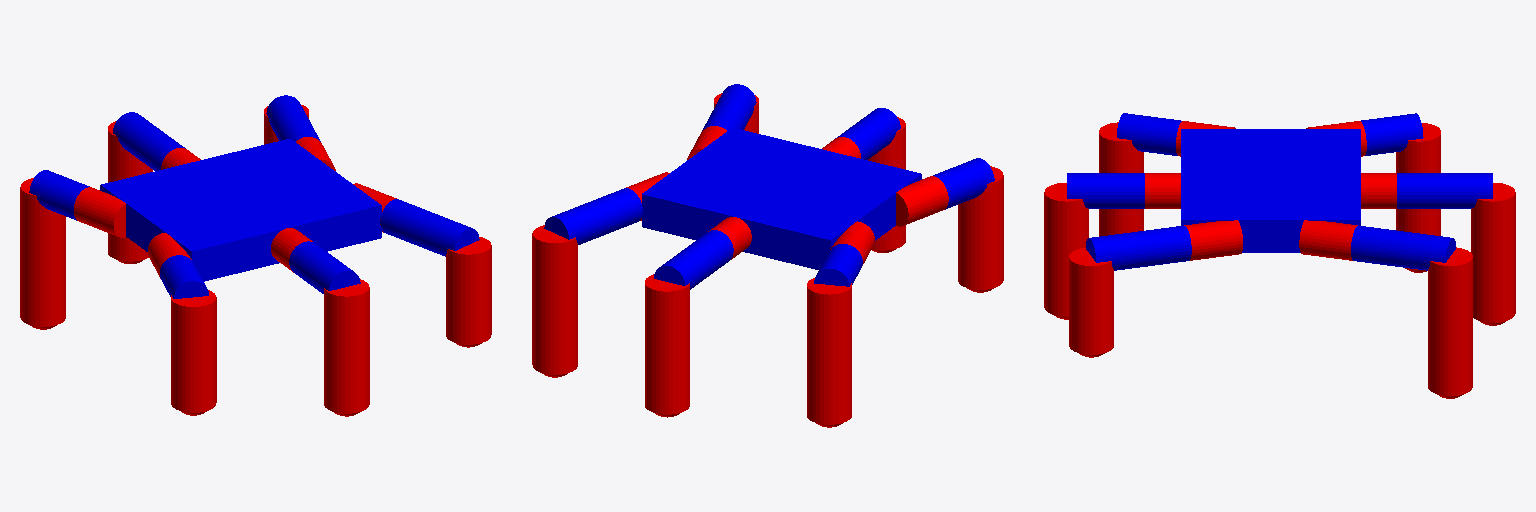
--- Render facts (derived) ---
The picture shows the robot from 3 angles, left to right: view 1: azimuth 30°, elevation 25°; view 2: azimuth 150°, elevation 25°; view 3: azimuth 270°, elevation 25°; orthographic projection.
Robot: pexod — 19 links, 18 joints (18 revolute); root link base_link; default pose: every joint at zero.
Links seen in each view (by area): view 1: base_link, leg_4_3, leg_0_3, leg_5_3, leg_3_3, leg_3_2, leg_4_2, leg_1_2, leg_1_3, leg_0_1, leg_0_2, leg_2_2 (+3 smaller); view 2: base_link, leg_2_3, leg_0_3, leg_1_3, leg_5_3, leg_2_2, leg_1_2, leg_5_1, leg_4_2, leg_5_2, leg_3_2, leg_4_3 (+3 smaller); view 3: base_link, leg_2_3, leg_1_3, leg_3_3, leg_4_3, leg_3_2, leg_2_2, leg_1_2, leg_0_3, leg_5_3, leg_4_2, leg_5_2 (+5 smaller).
Link boxes in pixels (bbox=[...]): base_link: bbox=[100, 139, 381, 281]; leg_4_3: bbox=[324, 279, 369, 416]; leg_0_3: bbox=[20, 178, 65, 329]; leg_5_3: bbox=[171, 290, 216, 415]; leg_3_3: bbox=[446, 237, 491, 347]; leg_3_2: bbox=[380, 199, 479, 256]; leg_4_2: bbox=[289, 241, 360, 293]; leg_1_2: bbox=[113, 112, 185, 170]; leg_1_3: bbox=[108, 121, 152, 263]; leg_0_1: bbox=[74, 187, 125, 237]; leg_0_2: bbox=[29, 170, 89, 220]; leg_2_2: bbox=[266, 95, 320, 141]; base_link: bbox=[642, 128, 921, 269]; leg_2_3: bbox=[532, 225, 577, 377]; leg_0_3: bbox=[807, 278, 851, 427]; leg_1_3: bbox=[645, 274, 689, 417]; leg_5_3: bbox=[958, 166, 1003, 292]; leg_2_2: bbox=[544, 188, 642, 244]; leg_1_2: bbox=[654, 230, 733, 289]; leg_5_1: bbox=[896, 176, 948, 226]; leg_4_2: bbox=[835, 108, 900, 159]; leg_5_2: bbox=[933, 158, 994, 209]; leg_3_2: bbox=[702, 84, 756, 130]; leg_4_3: bbox=[868, 117, 905, 252]; base_link: bbox=[1181, 129, 1360, 252]; leg_2_3: bbox=[1428, 247, 1472, 398]; leg_1_3: bbox=[1471, 183, 1515, 325]; leg_3_3: bbox=[1069, 248, 1113, 357]; leg_4_3: bbox=[1044, 183, 1088, 319]; leg_3_2: bbox=[1086, 226, 1191, 270]; leg_2_2: bbox=[1351, 226, 1455, 270]; leg_1_2: bbox=[1397, 173, 1492, 208]; leg_0_3: bbox=[1396, 123, 1440, 272]; leg_5_3: bbox=[1099, 122, 1143, 236]; leg_4_2: bbox=[1067, 173, 1144, 208]; leg_5_2: bbox=[1117, 113, 1181, 155].
Bounding box of the posed robot: 0.3784 × 0.5237 × 0.1921 m (x, y, z).
Geometry: primitives only (box / cylinder / sphere), no mesh files.

robot.urdf — pexod:
<?xml version="1.0" ?>
<!-- =================================================================================== -->
<!-- |    This document was autogenerated by xacro from pexod.xacro                    | -->
<!-- |    EDITING THIS FILE BY HAND IS NOT RECOMMENDED                                 | -->
<!-- =================================================================================== -->
<robot name="pexod" xmlns:xacro="http://www.ros.org/wiki/xacro">
  <!-- <xacro:include filename="$(find pexod_description)/urdf/pexod_control.xacro" /> -->
  <!-- MATERIALS -->
  <material name="Blue">
    <color rgba="0 0 1 1"/>
  </material>
  <material name="Red">
    <color rgba="1 0 0 1"/>
  </material>
  <material name="Green">
    <color rgba="0 1 0 1"/>
  </material>
  <material name="Yellow">
    <color rgba="1 1 0 1"/>
  </material>
  <material name="LightGrey">
    <color rgba="0.6 0.6 0.6 1.0"/>
  </material>
  <!-- END OF MATERIALS -->
  <!-- XACRO MACROS FOR VISUALS AND COLLISIONS -->
  <!-- END OF XACRO MACROS -->
  <!-- TORSO -->
  <link name="base_link">
    <visual>
      <origin rpy="0 0 0" xyz="0 0 0"/>
      <geometry>
        <box size="0.24 0.2 0.04"/>
      </geometry>
      <material name="Blue"/>
    </visual>
    <collision>
      <origin rpy="0 0 0" xyz="0 0 0"/>
      <geometry>
        <box size="0.24 0.2 0.04"/>
      </geometry>
    </collision>
    <inertial>
      <!-- CENTER OF MASS -->
      <origin rpy="0 0 0" xyz="0 0 0"/>
      <mass value="1.031"/>
      <!-- box inertia: 1/12*m(y^2+z^2), ... -->
      <inertia ixx="0.00357413333333" ixy="0" ixz="0" iyy="0.00508626666667" iyz="0" izz="0.00838546666667"/>
    </inertial>
  </link>
  <!-- XACRO MACRO FOR LEGS LINKS/JOINTS -->
  <!-- END OF LEG LINKS/JOINTS -->
  <joint name="body_leg_2" type="revolute">
    <parent link="base_link"/>
    <child link="leg_2_1"/>
    <limit effort="30.0" lower="-1.57079632679" upper="1.57079632679" velocity="7.0"/>
    <origin rpy="0 0 -0.3" xyz="0.11 0.04 0"/>
    <!-- <xacro:if value="${index == 5 or index == 4 or index == 3}">
                <axis xyz="0 0 1"/>
            </xacro:if>
            <xacro:if value="${index == 2 or index == 1 or index == 0}"> -->
    <axis xyz="0 0 1"/>
    <!-- </xacro:if> -->
    <dynamics damping="0.0"/>
  </joint>
  <link name="leg_2_1">
    <visual>
      <origin rpy="1.57079632679 0 0" xyz="0.01 0.03 0"/>
      <geometry>
        <cylinder length="0.06" radius="0.02"/>
      </geometry>
      <material name="Red"/>
    </visual>
    <collision>
      <origin rpy="1.57079632679 0 0" xyz="0.01 0.03 0"/>
      <geometry>
        <box size="0.02 0.02 0.06"/>
      </geometry>
    </collision>
    <inertial>
      <!-- CENTER OF MASS -->
      <origin rpy="1.57079632679 0 0" xyz="0.01 0.03 0"/>
      <mass value="0.02"/>
      <!-- box inertia: 1/12*m(y^2+z^2), ... -->
      <inertia ixx="6.66666666667e-06" ixy="0" ixz="0" iyy="6.66666666667e-06" iyz="0" izz="1.33333333333e-06"/>
    </inertial>
  </link>
  <joint name="leg_2_1_2" type="revolute">
    <parent link="leg_2_1"/>
    <child link="leg_2_2"/>
    <limit effort="30.0" lower="-0.78539816339" upper="0.78539816339" velocity="7.0"/>
    <origin rpy="0 0 0" xyz="0 0.06 0"/>
    <axis xyz="1 0 0"/>
    <dynamics damping="0.0"/>
  </joint>
  <link name="leg_2_2">
    <visual>
      <origin rpy="1.57079632679 0 0" xyz="0.01 0.055169609678 0"/>
      <geometry>
        <cylinder length="0.110339219356" radius="0.02"/>
      </geometry>
      <material name="Blue"/>
    </visual>
    <collision>
      <origin rpy="1.57079632679 0 0" xyz="0.01 0.055169609678 0"/>
      <geometry>
        <box size="0.02 0.02 0.110339219356"/>
      </geometry>
    </collision>
    <inertial>
      <!-- CENTER OF MASS -->
      <origin rpy="1.57079632679 0 0" xyz="0.01 0.055169609678 0"/>
      <mass value="0.184"/>
      <!-- box inertia: 1/12*m(y^2+z^2), ... -->
      <inertia ixx="0.000192812731031" ixy="0" ixz="0" iyy="0.000192812731031" iyz="0" izz="1.22666666667e-05"/>
    </inertial>
  </link>
  <joint name="leg_2_2_3" type="revolute">
    <parent link="leg_2_2"/>
    <child link="leg_2_3"/>
    <limit effort="30.0" lower="-0.78539816339" upper="0.78539816339" velocity="7.0"/>
    <origin rpy="-1.57079632679 0 0" xyz="0 0.110339219356 0"/>
    <axis xyz="-1 0 0"/>
    <dynamics damping="0.0"/>
  </joint>
  <link name="leg_2_3">
    <visual>
      <origin rpy="1.57079632679 0 0" xyz="0.0125 0.079806493705 0"/>
      <geometry>
        <cylinder length="0.15961298741" radius="0.025"/>
      </geometry>
      <material name="Red"/>
    </visual>
    <visual>
      <origin rpy="1.57079632679 0 0" xyz="0.0125 0.14711298741 0"/>
      <geometry>
        <sphere radius="0.025"/>
      </geometry>
      <material name="Red"/>
    </visual>
    <collision>
      <origin rpy="1.57079632679 0 0" xyz="0.0125 0.079806493705 0"/>
      <geometry>
        <box size="0.025 0.025 0.15961298741"/>
      </geometry>
    </collision>
    <collision>
      <origin rpy="1.57079632679 0 0" xyz="0.0125 0.14711298741 0"/>
      <geometry>
        <sphere radius="0.025"/>
      </geometry>
      <material name="Red"/>
    </collision>
    <inertial>
      <!-- CENTER OF MASS -->
      <origin rpy="1.57079632679 0 0" xyz="0.0125 0.079806493705 0"/>
      <mass value="0.04"/>
      <!-- box inertia: 1/12*m(y^2+z^2), ... -->
      <inertia ixx="8.70043524998e-05" ixy="0" ixz="0" iyy="8.70043524998e-05" iyz="0" izz="4.16666666667e-06"/>
    </inertial>
  </link>
  <joint name="body_leg_3" type="revolute">
    <parent link="base_link"/>
    <child link="leg_3_1"/>
    <limit effort="30.0" lower="-1.57079632679" upper="1.57079632679" velocity="7.0"/>
    <origin rpy="0 0 0.3" xyz="0.11 -0.04 0"/>
    <!-- <xacro:if value="${index == 5 or index == 4 or index == 3}">
                <axis xyz="0 0 1"/>
            </xacro:if>
            <xacro:if value="${index == 2 or index == 1 or index == 0}"> -->
    <axis xyz="0 0 1"/>
    <!-- </xacro:if> -->
    <dynamics damping="0.0"/>
  </joint>
  <link name="leg_3_1">
    <visual>
      <origin rpy="1.57079632679 0 0" xyz="0.01 -0.03 0"/>
      <geometry>
        <cylinder length="0.06" radius="0.02"/>
      </geometry>
      <material name="Red"/>
    </visual>
    <collision>
      <origin rpy="1.57079632679 0 0" xyz="0.01 -0.03 0"/>
      <geometry>
        <box size="0.02 0.02 0.06"/>
      </geometry>
    </collision>
    <inertial>
      <!-- CENTER OF MASS -->
      <origin rpy="1.57079632679 0 0" xyz="0.01 -0.03 0"/>
      <mass value="0.02"/>
      <!-- box inertia: 1/12*m(y^2+z^2), ... -->
      <inertia ixx="6.66666666667e-06" ixy="0" ixz="0" iyy="6.66666666667e-06" iyz="0" izz="1.33333333333e-06"/>
    </inertial>
  </link>
  <joint name="leg_3_1_2" type="revolute">
    <parent link="leg_3_1"/>
    <child link="leg_3_2"/>
    <limit effort="30.0" lower="-0.78539816339" upper="0.78539816339" velocity="7.0"/>
    <origin rpy="0 0 0" xyz="0 -0.06 0"/>
    <axis xyz="-1 0 0"/>
    <dynamics damping="0.0"/>
  </joint>
  <link name="leg_3_2">
    <visual>
      <origin rpy="1.57079632679 0 0" xyz="0.01 -0.055523271424 0"/>
      <geometry>
        <cylinder length="0.111046542848" radius="0.02"/>
      </geometry>
      <material name="Blue"/>
    </visual>
    <collision>
      <origin rpy="1.57079632679 0 0" xyz="0.01 -0.055523271424 0"/>
      <geometry>
        <box size="0.02 0.02 0.111046542848"/>
      </geometry>
    </collision>
    <inertial>
      <!-- CENTER OF MASS -->
      <origin rpy="1.57079632679 0 0" xyz="0.01 -0.055523271424 0"/>
      <mass value="0.184"/>
      <!-- box inertia: 1/12*m(y^2+z^2), ... -->
      <inertia ixx="0.000195213798404" ixy="0" ixz="0" iyy="0.000195213798404" iyz="0" izz="1.22666666667e-05"/>
    </inertial>
  </link>
  <joint name="leg_3_2_3" type="revolute">
    <parent link="leg_3_2"/>
    <child link="leg_3_3"/>
    <limit effort="30.0" lower="-0.78539816339" upper="0.78539816339" velocity="7.0"/>
    <origin rpy="1.57079632679 0 0" xyz="0 -0.111046542848 0"/>
    <axis xyz="1 0 0"/>
    <dynamics damping="0.0"/>
  </joint>
  <link name="leg_3_3">
    <visual>
      <origin rpy="1.57079632679 0 0" xyz="0.0125 -0.0544298456265 0"/>
      <geometry>
        <cylinder length="0.108859691253" radius="0.025"/>
      </geometry>
      <material name="Red"/>
    </visual>
    <visual>
      <origin rpy="1.57079632679 0 0" xyz="0.0125 -0.096359691253 0"/>
      <geometry>
        <sphere radius="0.025"/>
      </geometry>
      <material name="Red"/>
    </visual>
    <collision>
      <origin rpy="1.57079632679 0 0" xyz="0.0125 -0.0544298456265 0"/>
      <geometry>
        <box size="0.025 0.025 0.108859691253"/>
      </geometry>
    </collision>
    <collision>
      <origin rpy="1.57079632679 0 0" xyz="0.0125 -0.096359691253 0"/>
      <geometry>
        <sphere radius="0.025"/>
      </geometry>
      <material name="Red"/>
    </collision>
    <inertial>
      <!-- CENTER OF MASS -->
      <origin rpy="1.57079632679 0 0" xyz="0.0125 -0.0544298456265 0"/>
      <mass value="0.04"/>
      <!-- box inertia: 1/12*m(y^2+z^2), ... -->
      <inertia ixx="4.1584774599e-05" ixy="0" ixz="0" iyy="4.1584774599e-05" iyz="0" izz="4.16666666667e-06"/>
    </inertial>
  </link>
  <joint name="body_leg_0" type="revolute">
    <parent link="base_link"/>
    <child link="leg_0_1"/>
    <limit effort="30.0" lower="-1.57079632679" upper="1.57079632679" velocity="7.0"/>
    <origin rpy="0 0 0.3" xyz="-0.13 0.04 0"/>
    <!-- <xacro:if value="${index == 5 or index == 4 or index == 3}">
                <axis xyz="0 0 1"/>
            </xacro:if>
            <xacro:if value="${index == 2 or index == 1 or index == 0}"> -->
    <axis xyz="0 0 1"/>
    <!-- </xacro:if> -->
    <dynamics damping="0.0"/>
  </joint>
  <link name="leg_0_1">
    <visual>
      <origin rpy="1.57079632679 0 0" xyz="0.01 0.03 0"/>
      <geometry>
        <cylinder length="0.06" radius="0.02"/>
      </geometry>
      <material name="Red"/>
    </visual>
    <collision>
      <origin rpy="1.57079632679 0 0" xyz="0.01 0.03 0"/>
      <geometry>
        <box size="0.02 0.02 0.06"/>
      </geometry>
    </collision>
    <inertial>
      <!-- CENTER OF MASS -->
      <origin rpy="1.57079632679 0 0" xyz="0.01 0.03 0"/>
      <mass value="0.02"/>
      <!-- box inertia: 1/12*m(y^2+z^2), ... -->
      <inertia ixx="6.66666666667e-06" ixy="0" ixz="0" iyy="6.66666666667e-06" iyz="0" izz="1.33333333333e-06"/>
    </inertial>
  </link>
  <joint name="leg_0_1_2" type="revolute">
    <parent link="leg_0_1"/>
    <child link="leg_0_2"/>
    <limit effort="30.0" lower="-0.78539816339" upper="0.78539816339" velocity="7.0"/>
    <origin rpy="0 0 0" xyz="0 0.06 0"/>
    <axis xyz="1 0 0"/>
    <dynamics damping="0.0"/>
  </joint>
  <link name="leg_0_2">
    <visual>
      <origin rpy="1.57079632679 0 0" xyz="0.01 0.0329997539777 0"/>
      <geometry>
        <cylinder length="0.0659995079554" radius="0.02"/>
      </geometry>
      <material name="Blue"/>
    </visual>
    <collision>
      <origin rpy="1.57079632679 0 0" xyz="0.01 0.0329997539777 0"/>
      <geometry>
        <box size="0.02 0.02 0.0659995079554"/>
      </geometry>
    </collision>
    <inertial>
      <!-- CENTER OF MASS -->
      <origin rpy="1.57079632679 0 0" xyz="0.01 0.0329997539777 0"/>
      <mass value="0.184"/>
      <!-- box inertia: 1/12*m(y^2+z^2), ... -->
      <inertia ixx="7.29243374388e-05" ixy="0" ixz="0" iyy="7.29243374388e-05" iyz="0" izz="1.22666666667e-05"/>
    </inertial>
  </link>
  <joint name="leg_0_2_3" type="revolute">
    <parent link="leg_0_2"/>
    <child link="leg_0_3"/>
    <limit effort="30.0" lower="-0.78539816339" upper="0.78539816339" velocity="7.0"/>
    <origin rpy="-1.57079632679 0 0" xyz="0 0.0659995079554 0"/>
    <axis xyz="-1 0 0"/>
    <dynamics damping="0.0"/>
  </joint>
  <link name="leg_0_3">
    <visual>
      <origin rpy="1.57079632679 0 0" xyz="0.0125 0.0789329539165 0"/>
      <geometry>
        <cylinder length="0.157865907833" radius="0.025"/>
      </geometry>
      <material name="Red"/>
    </visual>
    <visual>
      <origin rpy="1.57079632679 0 0" xyz="0.0125 0.145365907833 0"/>
      <geometry>
        <sphere radius="0.025"/>
      </geometry>
      <material name="Red"/>
    </visual>
    <collision>
      <origin rpy="1.57079632679 0 0" xyz="0.0125 0.0789329539165 0"/>
      <geometry>
        <box size="0.025 0.025 0.157865907833"/>
      </geometry>
    </collision>
    <collision>
      <origin rpy="1.57079632679 0 0" xyz="0.0125 0.145365907833 0"/>
      <geometry>
        <sphere radius="0.025"/>
      </geometry>
      <material name="Red"/>
    </collision>
    <inertial>
      <!-- CENTER OF MASS -->
      <origin rpy="1.57079632679 0 0" xyz="0.0125 0.0789329539165 0"/>
      <mass value="0.04"/>
      <!-- box inertia: 1/12*m(y^2+z^2), ... -->
      <inertia ixx="8.51554828531e-05" ixy="0" ixz="0" iyy="8.51554828531e-05" iyz="0" izz="4.16666666667e-06"/>
    </inertial>
  </link>
  <joint name="body_leg_5" type="revolute">
    <parent link="base_link"/>
    <child link="leg_5_1"/>
    <limit effort="30.0" lower="-1.57079632679" upper="1.57079632679" velocity="7.0"/>
    <origin rpy="0 0 -0.3" xyz="-0.13 -0.04 0"/>
    <!-- <xacro:if value="${index == 5 or index == 4 or index == 3}">
                <axis xyz="0 0 1"/>
            </xacro:if>
            <xacro:if value="${index == 2 or index == 1 or index == 0}"> -->
    <axis xyz="0 0 1"/>
    <!-- </xacro:if> -->
    <dynamics damping="0.0"/>
  </joint>
  <link name="leg_5_1">
    <visual>
      <origin rpy="1.57079632679 0 0" xyz="0.01 -0.03 0"/>
      <geometry>
        <cylinder length="0.06" radius="0.02"/>
      </geometry>
      <material name="Red"/>
    </visual>
    <collision>
      <origin rpy="1.57079632679 0 0" xyz="0.01 -0.03 0"/>
      <geometry>
        <box size="0.02 0.02 0.06"/>
      </geometry>
    </collision>
    <inertial>
      <!-- CENTER OF MASS -->
      <origin rpy="1.57079632679 0 0" xyz="0.01 -0.03 0"/>
      <mass value="0.02"/>
      <!-- box inertia: 1/12*m(y^2+z^2), ... -->
      <inertia ixx="6.66666666667e-06" ixy="0" ixz="0" iyy="6.66666666667e-06" iyz="0" izz="1.33333333333e-06"/>
    </inertial>
  </link>
  <joint name="leg_5_1_2" type="revolute">
    <parent link="leg_5_1"/>
    <child link="leg_5_2"/>
    <limit effort="30.0" lower="-0.78539816339" upper="0.78539816339" velocity="7.0"/>
    <origin rpy="0 0 0" xyz="0 -0.06 0"/>
    <axis xyz="-1 0 0"/>
    <dynamics damping="0.0"/>
  </joint>
  <link name="leg_5_2">
    <visual>
      <origin rpy="1.57079632679 0 0" xyz="0.01 -0.0344225525335 0"/>
      <geometry>
        <cylinder length="0.068845105067" radius="0.02"/>
      </geometry>
      <material name="Blue"/>
    </visual>
    <collision>
      <origin rpy="1.57079632679 0 0" xyz="0.01 -0.0344225525335 0"/>
      <geometry>
        <box size="0.02 0.02 0.068845105067"/>
      </geometry>
    </collision>
    <inertial>
      <!-- CENTER OF MASS -->
      <origin rpy="1.57079632679 0 0" xyz="0.01 -0.0344225525335 0"/>
      <mass value="0.184"/>
      <!-- box inertia: 1/12*m(y^2+z^2), ... -->
      <inertia ixx="7.88079435392e-05" ixy="0" ixz="0" iyy="7.88079435392e-05" iyz="0" izz="1.22666666667e-05"/>
    </inertial>
  </link>
  <joint name="leg_5_2_3" type="revolute">
    <parent link="leg_5_2"/>
    <child link="leg_5_3"/>
    <limit effort="30.0" lower="-0.78539816339" upper="0.78539816339" velocity="7.0"/>
    <origin rpy="1.57079632679 0 0" xyz="0 -0.068845105067 0"/>
    <axis xyz="1 0 0"/>
    <dynamics damping="0.0"/>
  </joint>
  <link name="leg_5_3">
    <visual>
      <origin rpy="1.57079632679 0 0" xyz="0.0125 -0.0639595102265 0"/>
      <geometry>
        <cylinder length="0.127919020453" radius="0.025"/>
      </geometry>
      <material name="Red"/>
    </visual>
    <visual>
      <origin rpy="1.57079632679 0 0" xyz="0.0125 -0.115419020453 0"/>
      <geometry>
        <sphere radius="0.025"/>
      </geometry>
      <material name="Red"/>
    </visual>
    <collision>
      <origin rpy="1.57079632679 0 0" xyz="0.0125 -0.0639595102265 0"/>
      <geometry>
        <box size="0.025 0.025 0.127919020453"/>
      </geometry>
    </collision>
    <collision>
      <origin rpy="1.57079632679 0 0" xyz="0.0125 -0.115419020453 0"/>
      <geometry>
        <sphere radius="0.025"/>
      </geometry>
      <material name="Red"/>
    </collision>
    <inertial>
      <!-- CENTER OF MASS -->
      <origin rpy="1.57079632679 0 0" xyz="0.0125 -0.0639595102265 0"/>
      <mass value="0.04"/>
      <!-- box inertia: 1/12*m(y^2+z^2), ... -->
      <inertia ixx="5.66275859789e-05" ixy="0" ixz="0" iyy="5.66275859789e-05" iyz="0" izz="4.16666666667e-06"/>
    </inertial>
  </link>
  <joint name="body_leg_1" type="revolute">
    <parent link="base_link"/>
    <child link="leg_1_1"/>
    <limit effort="30.0" lower="-1.57079632679" upper="1.57079632679" velocity="7.0"/>
    <origin rpy="0 0 0" xyz="-0.01 0.08 0"/>
    <!-- <xacro:if value="${index == 5 or index == 4 or index == 3}">
                <axis xyz="0 0 1"/>
            </xacro:if>
            <xacro:if value="${index == 2 or index == 1 or index == 0}"> -->
    <axis xyz="0 0 1"/>
    <!-- </xacro:if> -->
    <dynamics damping="0.0"/>
  </joint>
  <link name="leg_1_1">
    <visual>
      <origin rpy="1.57079632679 0 0" xyz="0.01 0.03 0"/>
      <geometry>
        <cylinder length="0.06" radius="0.02"/>
      </geometry>
      <material name="Red"/>
    </visual>
    <collision>
      <origin rpy="1.57079632679 0 0" xyz="0.01 0.03 0"/>
      <geometry>
        <box size="0.02 0.02 0.06"/>
      </geometry>
    </collision>
    <inertial>
      <!-- CENTER OF MASS -->
      <origin rpy="1.57079632679 0 0" xyz="0.01 0.03 0"/>
      <mass value="0.02"/>
      <!-- box inertia: 1/12*m(y^2+z^2), ... -->
      <inertia ixx="6.66666666667e-06" ixy="0" ixz="0" iyy="6.66666666667e-06" iyz="0" izz="1.33333333333e-06"/>
    </inertial>
  </link>
  <joint name="leg_1_1_2" type="revolute">
    <parent link="leg_1_1"/>
    <child link="leg_1_2"/>
    <limit effort="30.0" lower="-0.78539816339" upper="0.78539816339" velocity="7.0"/>
    <origin rpy="0 0 0" xyz="0 0.06 0"/>
    <axis xyz="1 0 0"/>
    <dynamics damping="0.0"/>
  </joint>
  <link name="leg_1_2">
    <visual>
      <origin rpy="1.57079632679 0 0" xyz="0.01 0.0532567980695 0"/>
      <geometry>
        <cylinder length="0.106513596139" radius="0.02"/>
      </geometry>
      <material name="Blue"/>
    </visual>
    <collision>
      <origin rpy="1.57079632679 0 0" xyz="0.01 0.0532567980695 0"/>
      <geometry>
        <box size="0.02 0.02 0.106513596139"/>
      </geometry>
    </collision>
    <inertial>
      <!-- CENTER OF MASS -->
      <origin rpy="1.57079632679 0 0" xyz="0.01 0.0532567980695 0"/>
      <mass value="0.184"/>
      <!-- box inertia: 1/12*m(y^2+z^2), ... -->
      <inertia ixx="0.000180092241158" ixy="0" ixz="0" iyy="0.000180092241158" iyz="0" izz="1.22666666667e-05"/>
    </inertial>
  </link>
  <joint name="leg_1_2_3" type="revolute">
    <parent link="leg_1_2"/>
    <child link="leg_1_3"/>
    <limit effort="30.0" lower="-0.78539816339" upper="0.78539816339" velocity="7.0"/>
    <origin rpy="-1.57079632679 0 0" xyz="0 0.106513596139 0"/>
    <axis xyz="-1 0 0"/>
    <dynamics damping="0.0"/>
  </joint>
  <link name="leg_1_3">
    <visual>
      <origin rpy="1.57079632679 0 0" xyz="0.0125 0.0745333361395 0"/>
      <geometry>
        <cylinder length="0.149066672279" radius="0.025"/>
      </geometry>
      <material name="Red"/>
    </visual>
    <visual>
      <origin rpy="1.57079632679 0 0" xyz="0.0125 0.136566672279 0"/>
      <geometry>
        <sphere radius="0.025"/>
      </geometry>
      <material name="Red"/>
    </visual>
    <collision>
      <origin rpy="1.57079632679 0 0" xyz="0.0125 0.0745333361395 0"/>
      <geometry>
        <box size="0.025 0.025 0.149066672279"/>
      </geometry>
    </collision>
    <collision>
      <origin rpy="1.57079632679 0 0" xyz="0.0125 0.136566672279 0"/>
      <geometry>
        <sphere radius="0.025"/>
      </geometry>
      <material name="Red"/>
    </collision>
    <inertial>
      <!-- CENTER OF MASS -->
      <origin rpy="1.57079632679 0 0" xyz="0.0125 0.0745333361395 0"/>
      <mass value="0.04"/>
      <!-- box inertia: 1/12*m(y^2+z^2), ... -->
      <inertia ixx="7.61529092811e-05" ixy="0" ixz="0" iyy="7.61529092811e-05" iyz="0" izz="4.16666666667e-06"/>
    </inertial>
  </link>
  <joint name="body_leg_4" type="revolute">
    <parent link="base_link"/>
    <child link="leg_4_1"/>
    <limit effort="30.0" lower="-1.57079632679" upper="1.57079632679" velocity="7.0"/>
    <origin rpy="0 0 0" xyz="-0.01 -0.08 0"/>
    <!-- <xacro:if value="${index == 5 or index == 4 or index == 3}">
                <axis xyz="0 0 1"/>
            </xacro:if>
            <xacro:if value="${index == 2 or index == 1 or index == 0}"> -->
    <axis xyz="0 0 1"/>
    <!-- </xacro:if> -->
    <dynamics damping="0.0"/>
  </joint>
  <link name="leg_4_1">
    <visual>
      <origin rpy="1.57079632679 0 0" xyz="0.01 -0.03 0"/>
      <geometry>
        <cylinder length="0.06" radius="0.02"/>
      </geometry>
      <material name="Red"/>
    </visual>
    <collision>
      <origin rpy="1.57079632679 0 0" xyz="0.01 -0.03 0"/>
      <geometry>
        <box size="0.02 0.02 0.06"/>
      </geometry>
    </collision>
    <inertial>
      <!-- CENTER OF MASS -->
      <origin rpy="1.57079632679 0 0" xyz="0.01 -0.03 0"/>
      <mass value="0.02"/>
      <!-- box inertia: 1/12*m(y^2+z^2), ... -->
      <inertia ixx="6.66666666667e-06" ixy="0" ixz="0" iyy="6.66666666667e-06" iyz="0" izz="1.33333333333e-06"/>
    </inertial>
  </link>
  <joint name="leg_4_1_2" type="revolute">
    <parent link="leg_4_1"/>
    <child link="leg_4_2"/>
    <limit effort="30.0" lower="-0.78539816339" upper="0.78539816339" velocity="7.0"/>
    <origin rpy="0 0 0" xyz="0 -0.06 0"/>
    <axis xyz="-1 0 0"/>
    <dynamics damping="0.0"/>
  </joint>
  <link name="leg_4_2">
    <visual>
      <origin rpy="1.57079632679 0 0" xyz="0.01 -0.0436080308983 0"/>
      <geometry>
        <cylinder length="0.0872160617965" radius="0.02"/>
      </geometry>
      <material name="Blue"/>
    </visual>
    <collision>
      <origin rpy="1.57079632679 0 0" xyz="0.01 -0.0436080308983 0"/>
      <geometry>
        <box size="0.02 0.02 0.0872160617965"/>
      </geometry>
    </collision>
    <inertial>
      <!-- CENTER OF MASS -->
      <origin rpy="1.57079632679 0 0" xyz="0.01 -0.0436080308983 0"/>
      <mass value="0.184"/>
      <!-- box inertia: 1/12*m(y^2+z^2), ... -->
      <inertia ixx="0.000122768502008" ixy="0" ixz="0" iyy="0.000122768502008" iyz="0" izz="1.22666666667e-05"/>
    </inertial>
  </link>
  <joint name="leg_4_2_3" type="revolute">
    <parent link="leg_4_2"/>
    <child link="leg_4_3"/>
    <limit effort="30.0" lower="-0.78539816339" upper="0.78539816339" velocity="7.0"/>
    <origin rpy="1.57079632679 0 0" xyz="0 -0.0872160617965 0"/>
    <axis xyz="1 0 0"/>
    <dynamics damping="0.0"/>
  </joint>
  <link name="leg_4_3">
    <visual>
      <origin rpy="1.57079632679 0 0" xyz="0.0125 -0.070771986611 0"/>
      <geometry>
        <cylinder length="0.141543973222" radius="0.025"/>
      </geometry>
      <material name="Red"/>
    </visual>
    <visual>
      <origin rpy="1.57079632679 0 0" xyz="0.0125 -0.129043973222 0"/>
      <geometry>
        <sphere radius="0.025"/>
      </geometry>
      <material name="Red"/>
    </visual>
    <collision>
      <origin rpy="1.57079632679 0 0" xyz="0.0125 -0.070771986611 0"/>
      <geometry>
        <box size="0.025 0.025 0.141543973222"/>
      </geometry>
    </collision>
    <collision>
      <origin rpy="1.57079632679 0 0" xyz="0.0125 -0.129043973222 0"/>
      <geometry>
        <sphere radius="0.025"/>
      </geometry>
      <material name="Red"/>
    </collision>
    <inertial>
      <!-- CENTER OF MASS -->
      <origin rpy="1.57079632679 0 0" xyz="0.0125 -0.070771986611 0"/>
      <mass value="0.04"/>
      <!-- box inertia: 1/12*m(y^2+z^2), ... -->
      <inertia ixx="6.88656545182e-05" ixy="0" ixz="0" iyy="6.88656545182e-05" iyz="0" izz="4.16666666667e-06"/>
    </inertial>
  </link>
  <!-- END OF LEG LINKS/JOINTS -->
</robot>
